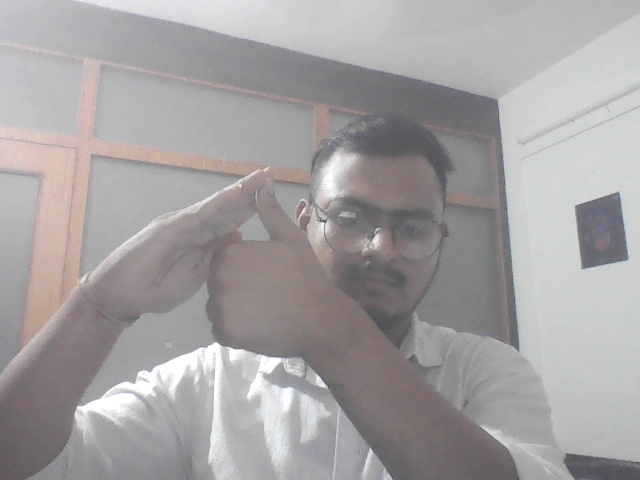I Feel You: (123, 160, 319, 368)
